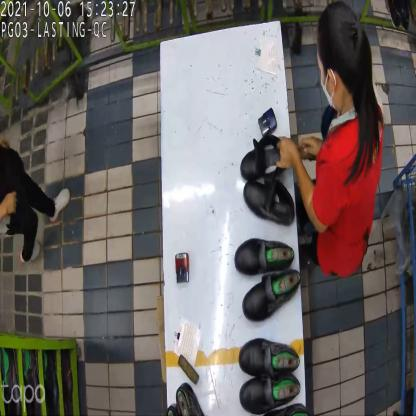shoes: (237, 237, 301, 322), (237, 339, 305, 411), (238, 147, 297, 225)
stamp: (173, 251, 192, 285), (259, 108, 277, 139)
